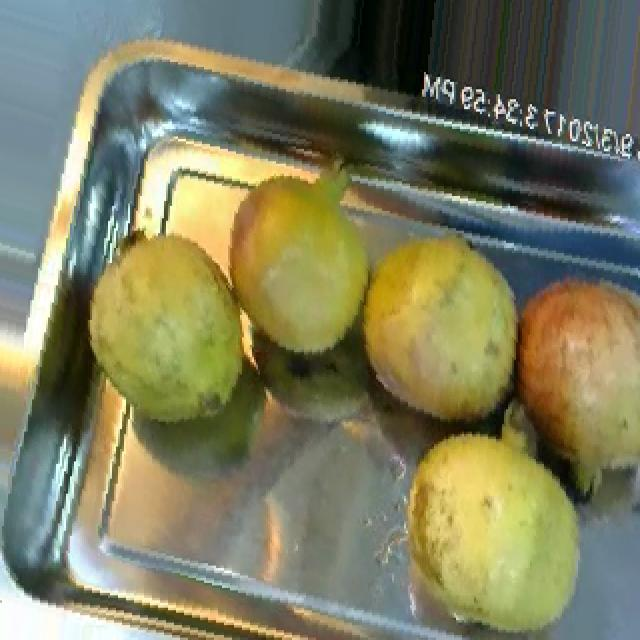fruit: (368, 397, 622, 640), (60, 201, 288, 454), (342, 201, 542, 449), (200, 141, 398, 387)
